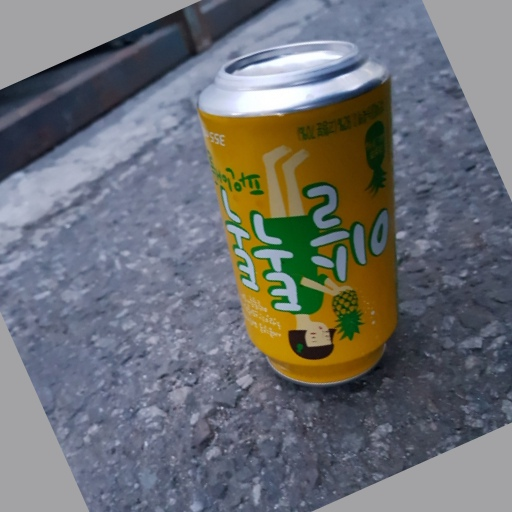Metal_0: (196, 38, 406, 384)
